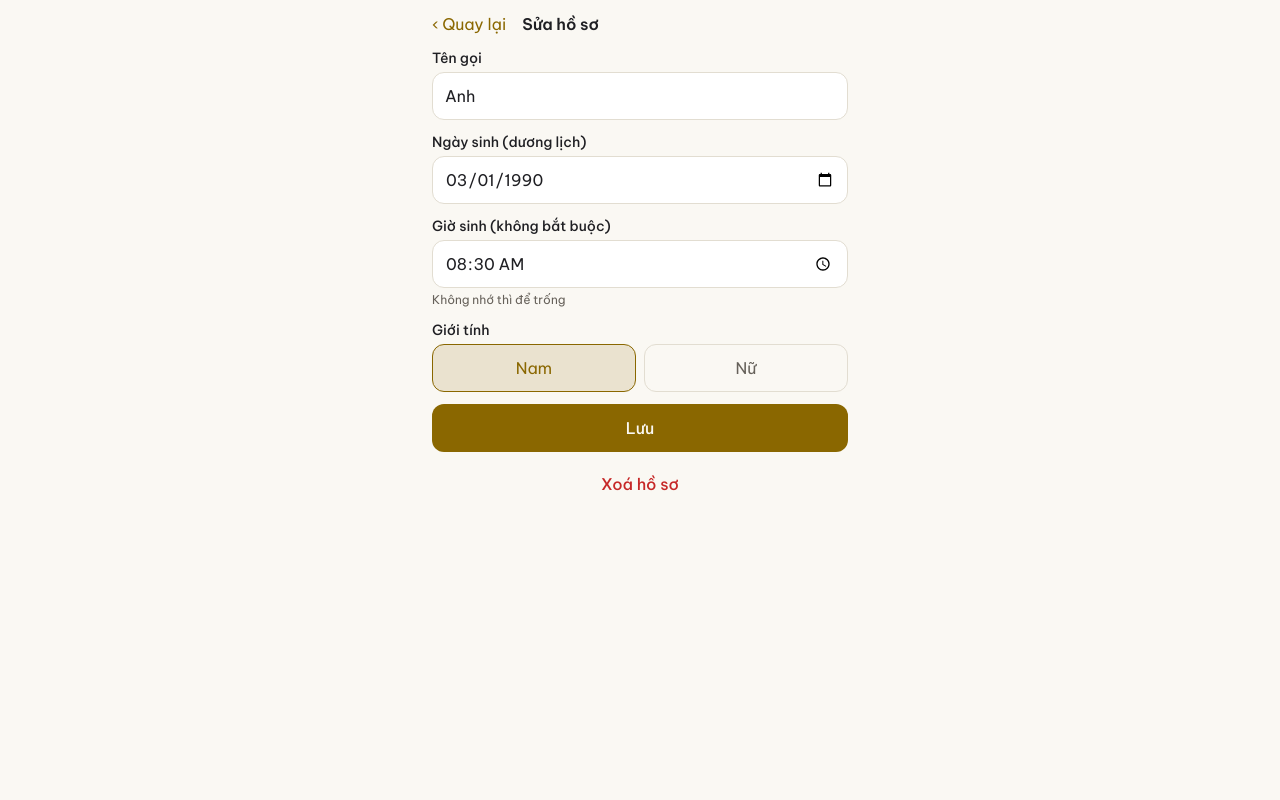
Scenario: hồ sơ lưu trên máy, mỗi máy một hồ sơ (HORO-UC01/BR-1) › đã có hồ sơ mà vào link thêm thì mở form sửa; xoá phải xác nhận, xong mời thêm lại
Expected: the field labelled "Tên gọi" holds "Anh", top-left (432, 72), bottom-right (848, 120)
Expected: the time field labelled "Giờ sinh (không bắt buộc) Không nhớ thì để trống" holds "08:30", top-left (432, 240), bottom-right (848, 288)
Click the button "Xoá hồ sơ" at (640, 484), box top-left (432, 460), bottom-right (848, 508)
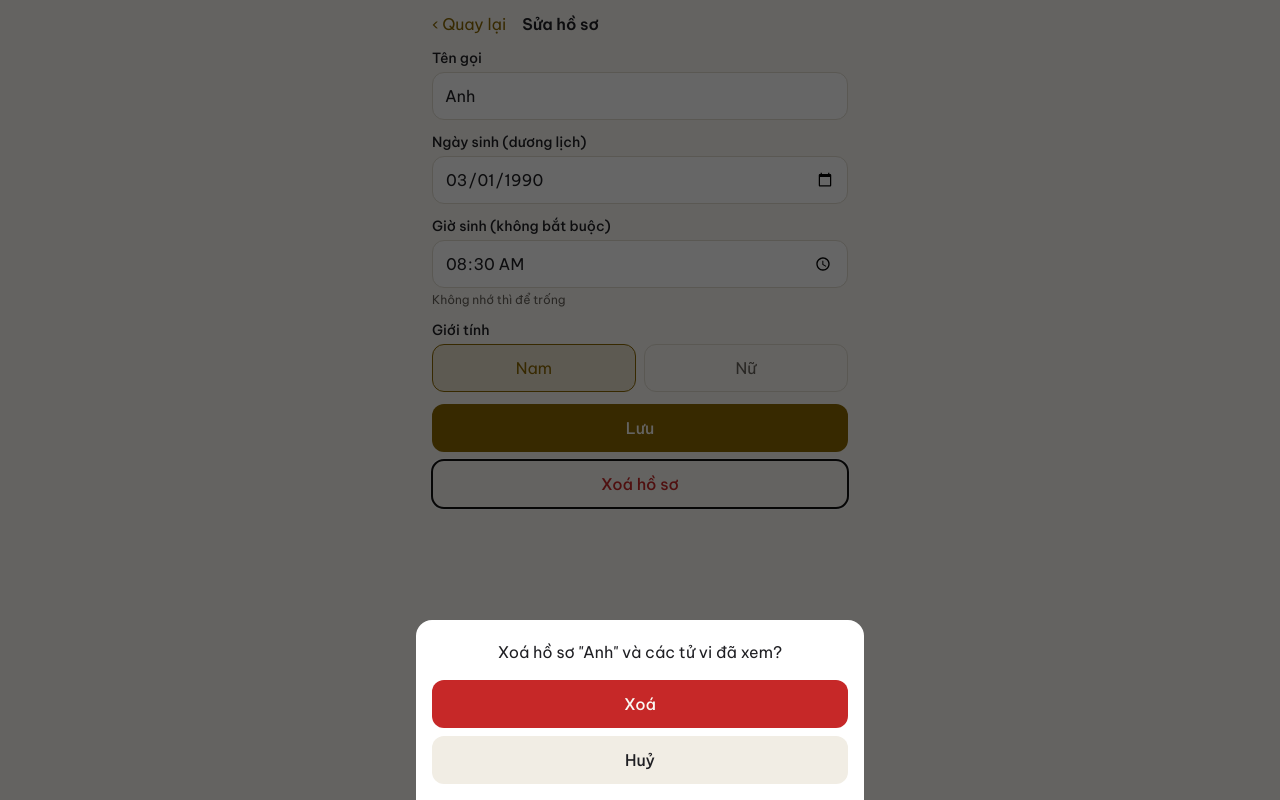
Expected: the text "Xoá hồ sơ \"Anh\" và các tử vi đã xem?" is shown, top-left (498, 642), bottom-right (782, 662)
Click the button "Xoá" at (640, 704), box top-left (432, 680), bottom-right (848, 728)
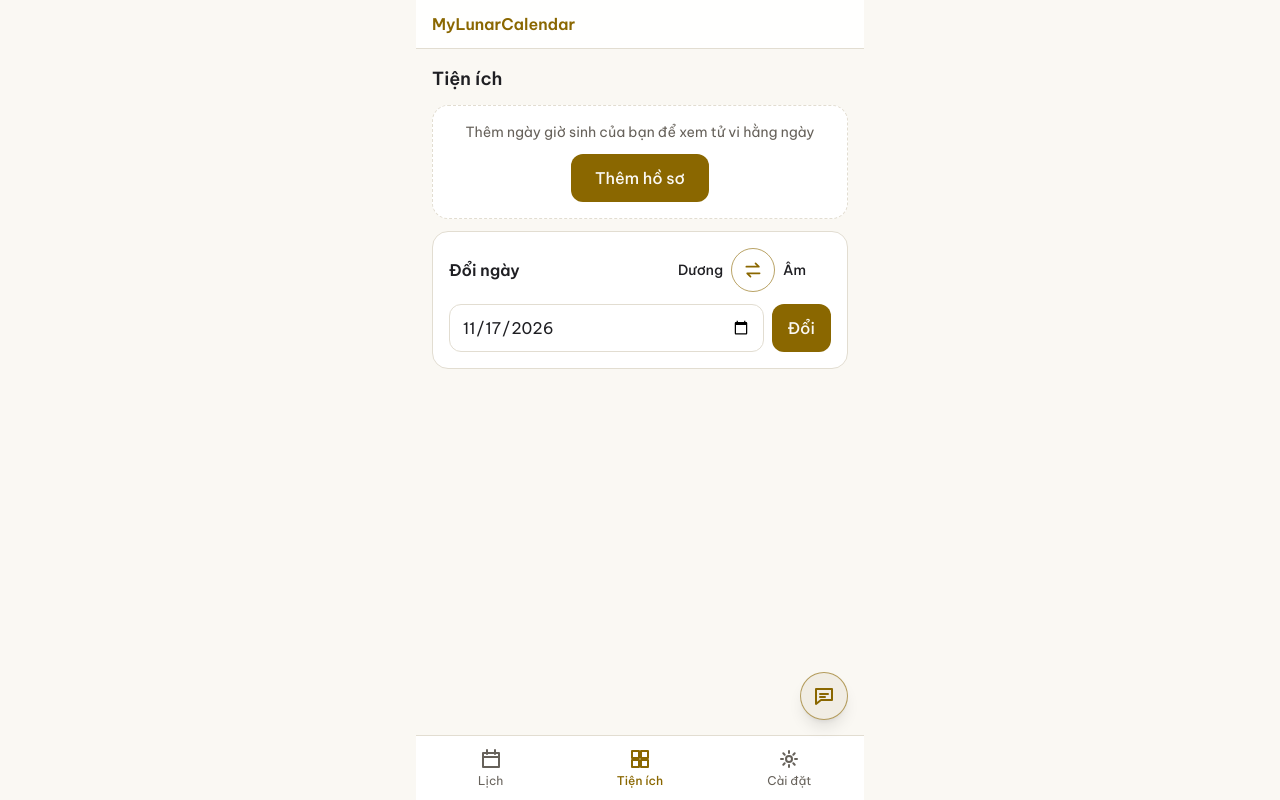
Expected: the link "Thêm hồ sơ" is shown, top-left (571, 154), bottom-right (709, 202)
